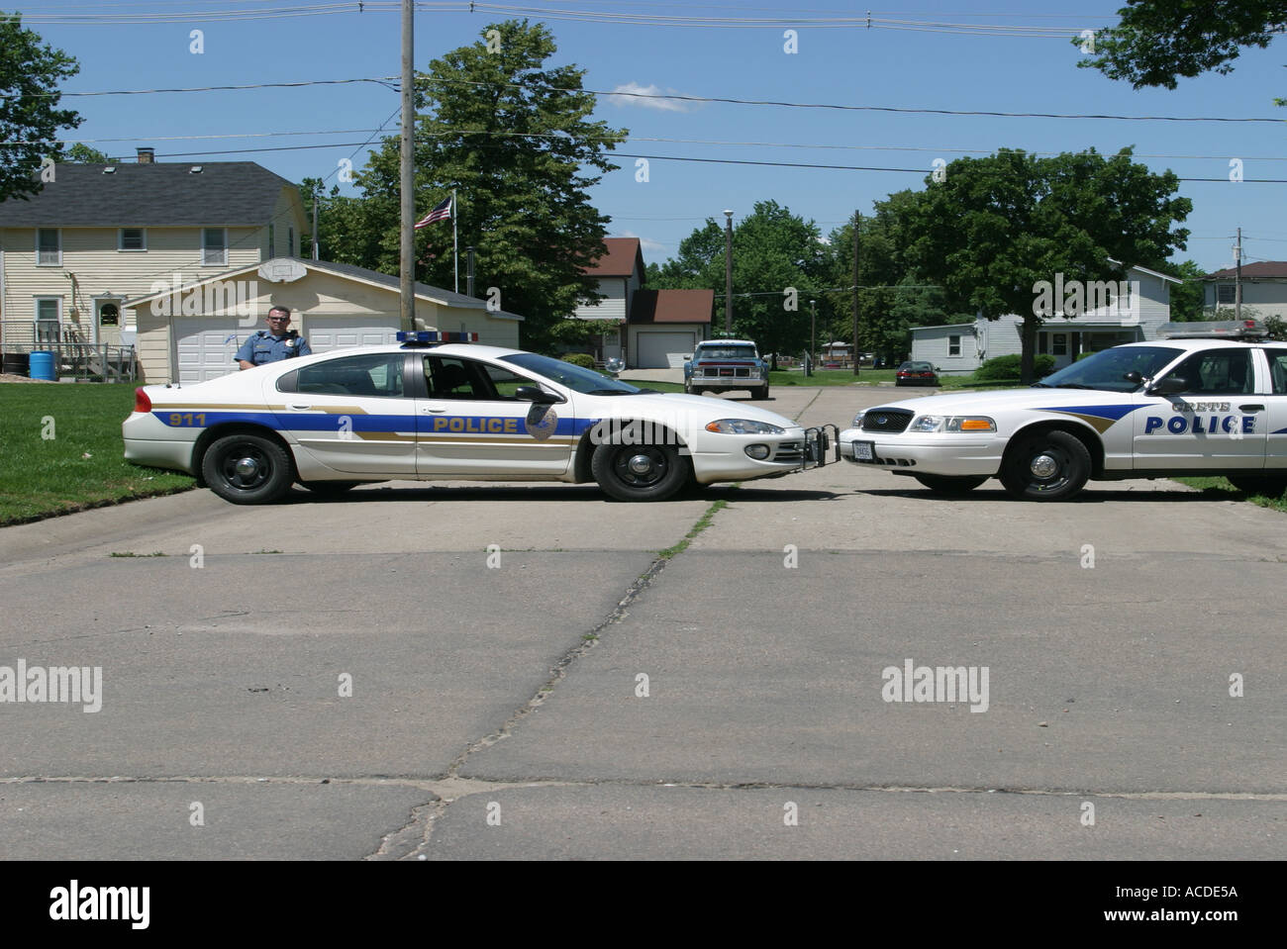Car: (66, 339, 840, 512), (850, 323, 1287, 499), (667, 338, 793, 402)
Tree: (393, 16, 580, 339)
